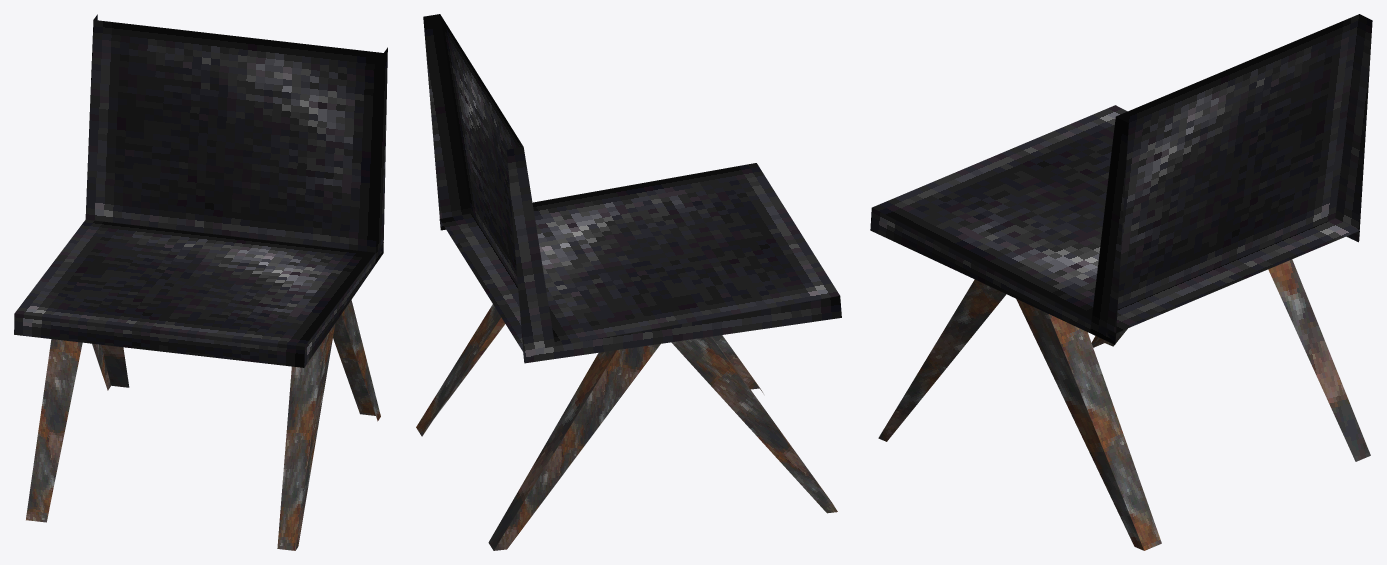
The model's file is archives_black_chair_7.glb.
3 renders of one model, left to right at view 1: azimuth 30°, elevation 25°; view 2: azimuth 150°, elevation 25°; view 3: azimuth 270°, elevation 25°, orthographic. The views are drawn at different scales.
Parts seen in each view (by area): view 1: Object; view 2: Object; view 3: Object.
Boxes of the visible parts, x1,y1,x2,y2 form: Object: (14, 14, 387, 550); Object: (416, 14, 841, 550); Object: (870, 14, 1372, 550).
Bounding box in the file's own units: 0.9474 × 0.8928 × 0.9472.
Materials: 2 (2 with a texture image).
